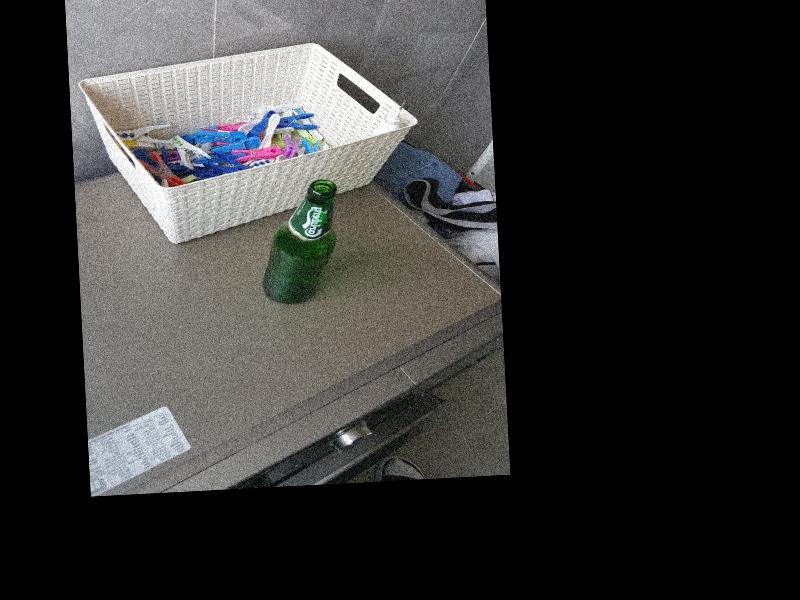Beer: (257, 178, 341, 305)
